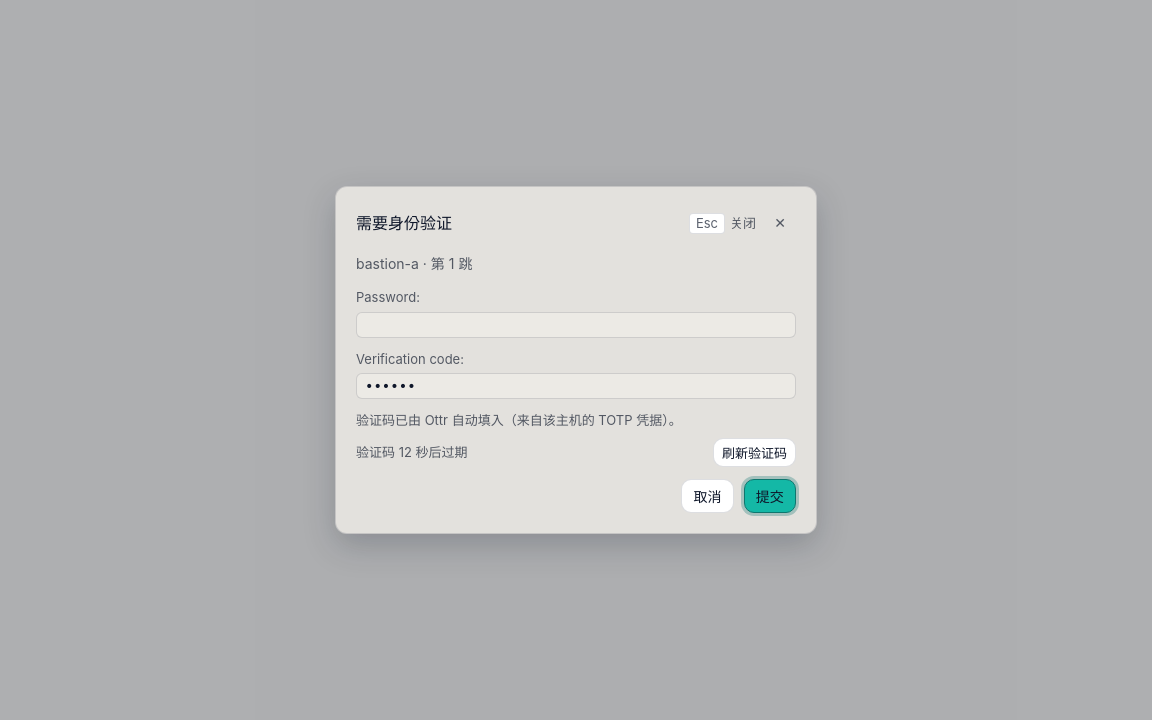
Test: PromptDialog › 手动「刷新验证码」按钮 → 取一个新码
Click the button with test id "prompt-code-refresh" at (754, 453), box [713, 438, 796, 467]
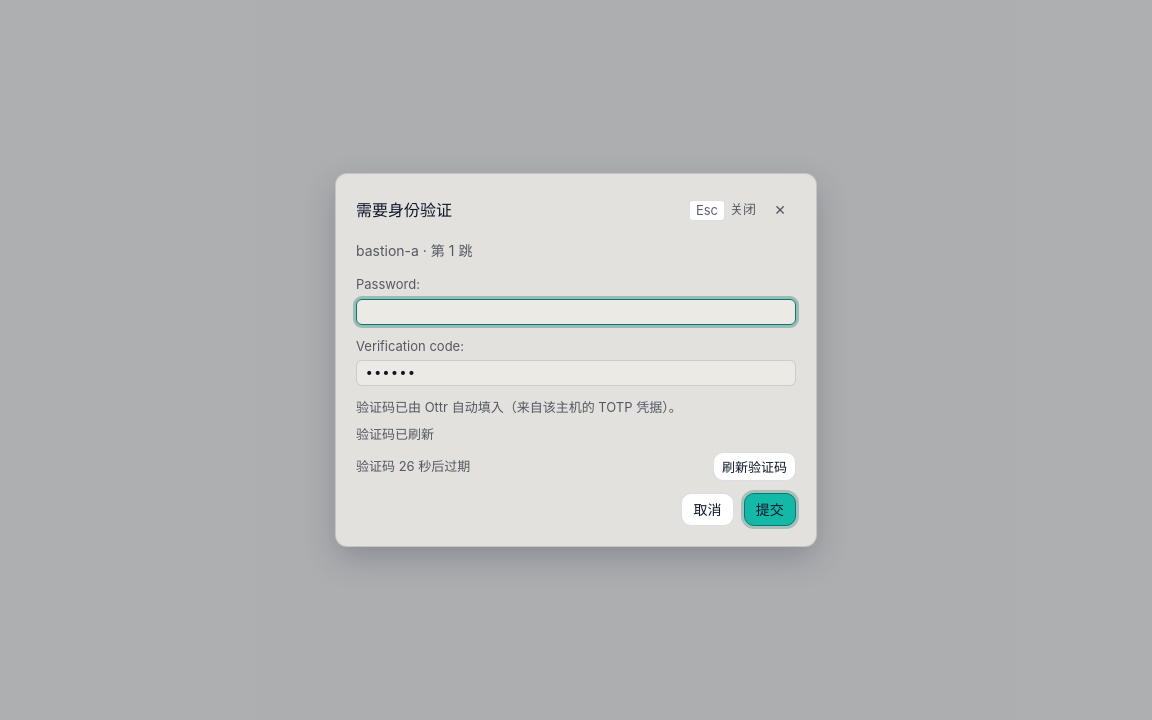
Result: the password field with test id "prompt-input-1" holds "654321" at [356, 360, 796, 386]
